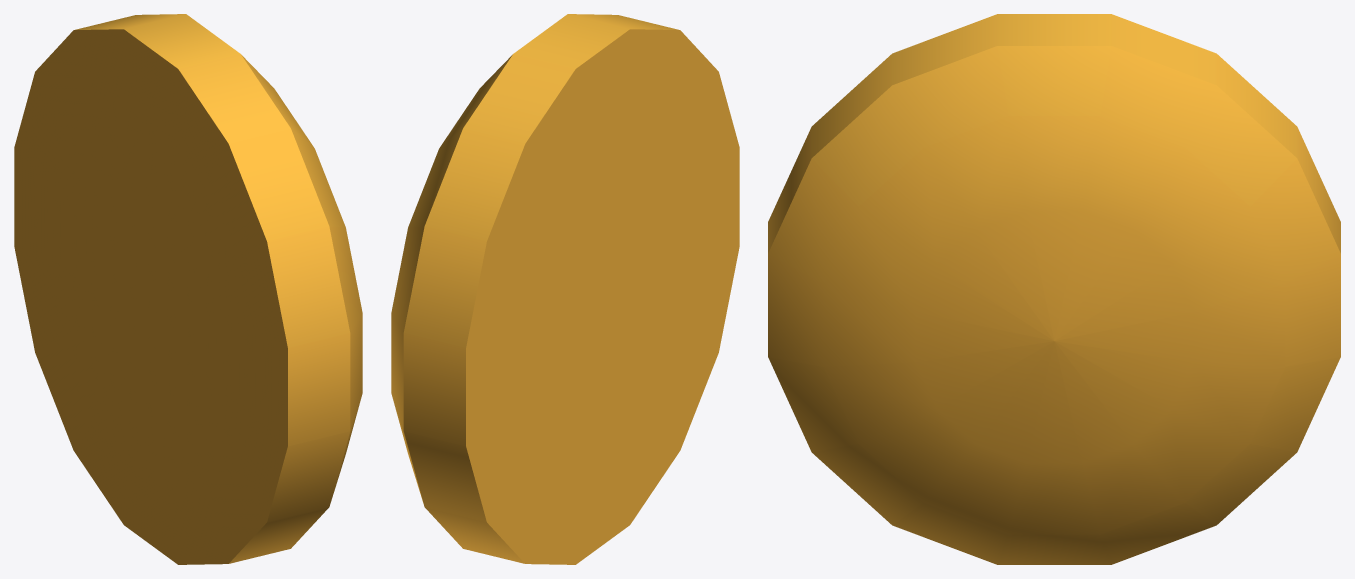
The model's file is lamp_idle.obj.
3 renders of one model, left to right at view 1: azimuth 30°, elevation 25°; view 2: azimuth 150°, elevation 25°; view 3: azimuth 270°, elevation 25°, orthographic. The views are drawn at different scales.
Visible parts, largest first — view 1: lamp_idle_lens; view 2: lamp_idle_lens; view 3: lamp_idle_lens.
Boxes of the visible parts, x1,y1,x2,y2 form: lamp_idle_lens: (14,14,362,564); lamp_idle_lens: (391,14,739,564); lamp_idle_lens: (768,14,1340,564).
Size of the model in its own units: 0.0212 by 0.076 by 0.076.
